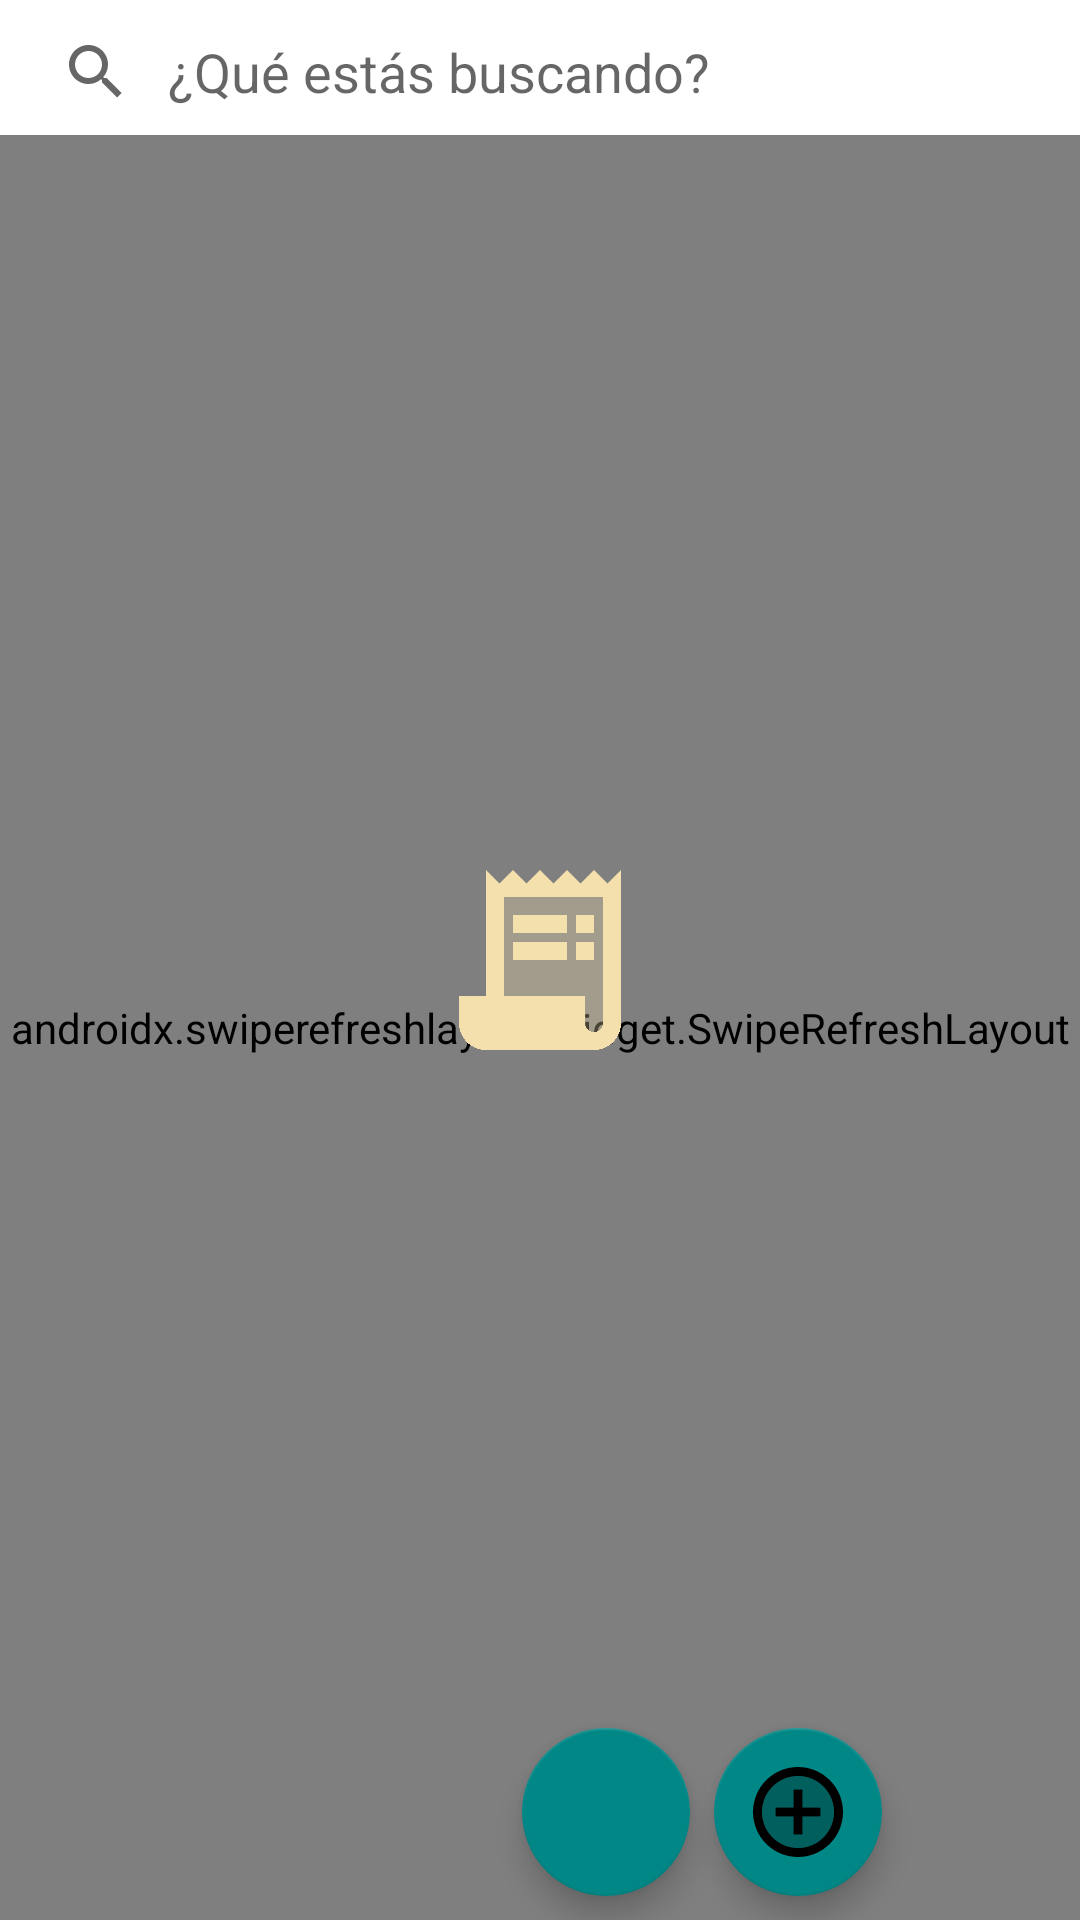

Locate icon controls on the screen. Image size 1080 × 1920, boxes as (x1, y1, x2, y2).
Añadir producto: (714, 1728, 882, 1896)
